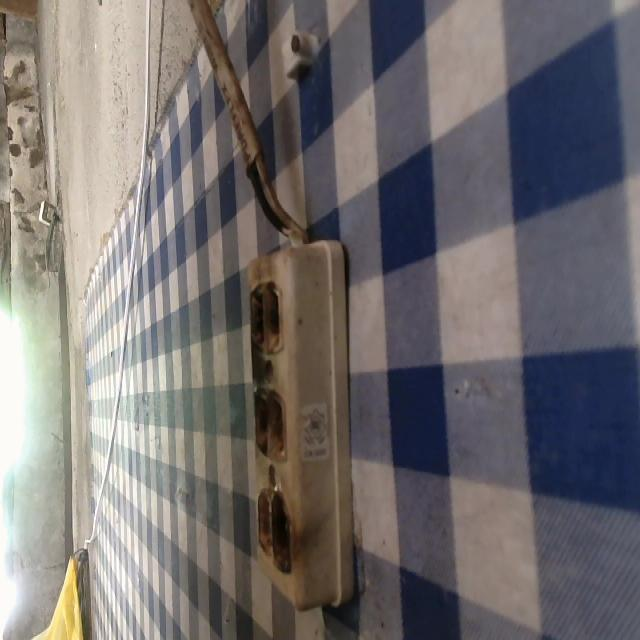-: (252, 482, 295, 570), (249, 384, 290, 467), (247, 276, 284, 360)
